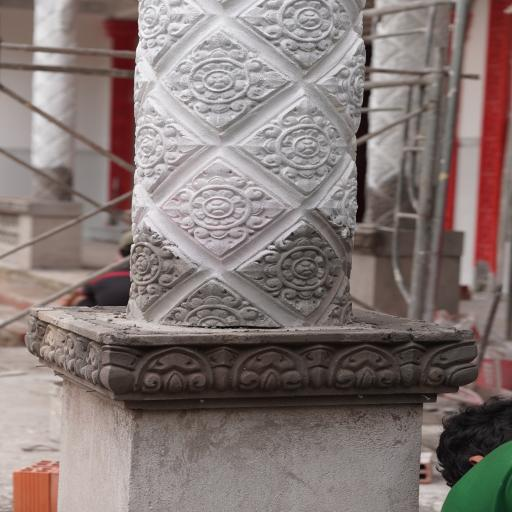hoa: (151, 27, 293, 132), (159, 158, 291, 252), (230, 218, 356, 314), (251, 92, 345, 193), (242, 0, 373, 67), (312, 38, 391, 141), (119, 214, 201, 310), (134, 92, 202, 202), (128, 1, 213, 63)
la: (218, 341, 312, 394), (315, 339, 400, 397), (123, 344, 216, 393), (414, 336, 488, 394)
